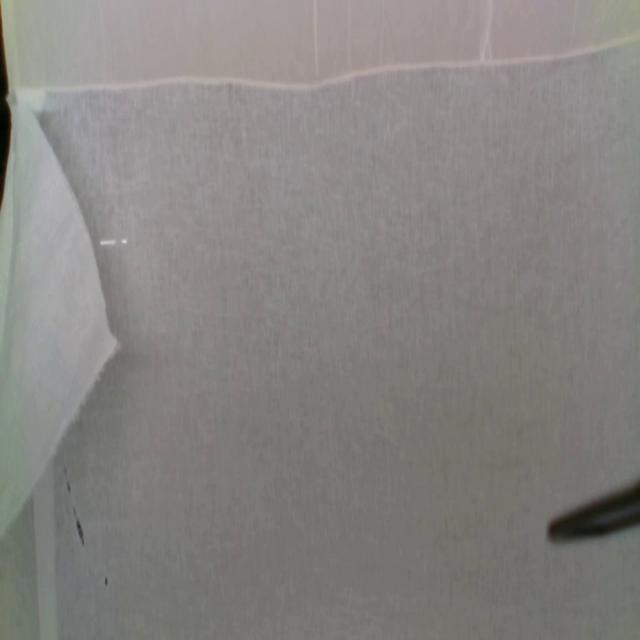hole: (73, 506, 86, 548), (66, 480, 73, 495), (104, 574, 110, 591), (64, 466, 69, 478)
